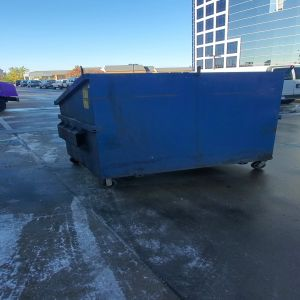Dumpster: (54, 74, 285, 188)
